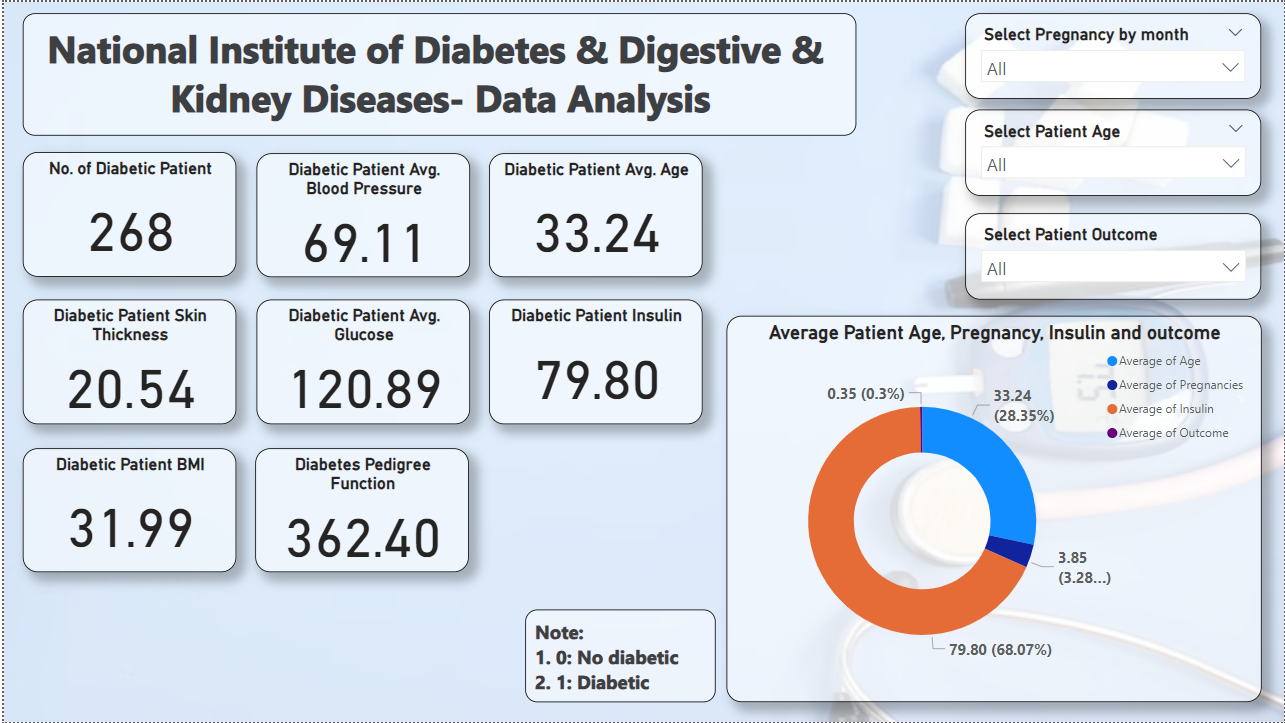

This screenshot's page, from the dashboard's own definition file:
{"tool":"powerbi","page":{"name":"Page 1","canvas":[1280,720],"ordinal":0},"visuals":[{"type":"textbox","box":[19.2,11,833.6,122],"z":0},{"type":"slicer","fields":{"Values":["diabetes (3).Pregnancies"]},"box":[961.4,11.4,295.7,85.7],"z":1000},{"type":"card","title":"No. of Diabetic Patient","fields":{"Values":["Sum(diabetes (3).Outcome)"]},"box":[19.2,149.4,213.9,124.8],"z":2000},{"type":"card","title":"Diabetic Patient Avg. Age","fields":{"Values":["Avg(diabetes (3).Age)"]},"box":[485,151.2,213.8,123.8],"z":3000},{"type":"card","title":"Diabetic Patient Avg. Blood Pressure","fields":{"Values":["Avg(diabetes (3).Blood Pressure)"]},"box":[252.5,151.2,213.8,123.8],"z":4000},{"type":"card","title":"Diabetic Patient Avg. Glucose","fields":{"Values":["Avg(diabetes (3).Glucose)"]},"box":[252.5,297.5,213.8,125],"z":5000},{"type":"card","title":"Diabetic Patient Skin Thickness","fields":{"Values":["Avg(diabetes (3).Skin Thickness)"]},"box":[18.8,297.5,213.8,125],"z":6000},{"type":"card","title":"Diabetic Patient Insulin","fields":{"Values":["Avg(diabetes (3).Insulin)"]},"box":[485,297.5,213.8,125],"z":7000},{"type":"card","title":"Diabetic Patient BMI","fields":{"Values":["Avg(diabetes (3).BMI)"]},"box":[18.8,446.2,213.8,123.8],"z":8000},{"type":"card","title":"Diabetes Pedigree Function","fields":{"Values":["Sum(diabetes (3).Diabetes Pedigree Function)"]},"box":[251.2,446.2,213.8,123.8],"z":9000},{"type":"donutChart","title":"Average Patient Age, Pregnancy, Insulin and outcome ","fields":{"Y":["Avg(diabetes (3).Age)","Avg(diabetes (3).Pregnancies)","Avg(diabetes (3).Insulin)","Avg(diabetes (3).Outcome)"]},"box":[722.5,313.8,535,386.2],"z":10000},{"type":"slicer","fields":{"Values":["diabetes (3).Age"]},"box":[961.2,107.5,296.2,86.2],"z":11000},{"type":"textbox","box":[521.2,607.5,190,92.5],"z":12000},{"type":"slicer","fields":{"Values":["diabetes (3).Outcome"]},"box":[961.2,211.2,296.2,86.2],"z":13000}]}

Visuals, with their boxes in screenshot pixels (x1, y1, x2, y2), scaled from the page's 1280x720 canvas onto the 1285x723 screenshot:
textbox: BBox(19, 11, 856, 134)
slicer - diabetes (3).Pregnancies: BBox(965, 11, 1262, 98)
"No. of Diabetic Patient" card: BBox(19, 150, 234, 275)
"Diabetic Patient Avg. Age" card: BBox(487, 152, 702, 276)
"Diabetic Patient Avg. Blood Pressure" card: BBox(253, 152, 468, 276)
"Diabetic Patient Avg. Glucose" card: BBox(253, 299, 468, 424)
"Diabetic Patient Skin Thickness" card: BBox(19, 299, 234, 424)
"Diabetic Patient Insulin" card: BBox(487, 299, 702, 424)
"Diabetic Patient BMI" card: BBox(19, 448, 234, 572)
"Diabetes Pedigree Function" card: BBox(252, 448, 467, 572)
"Average Patient Age, Pregnancy, Insulin and outcome " donutChart: BBox(725, 315, 1262, 703)
slicer - diabetes (3).Age: BBox(965, 108, 1262, 195)
textbox: BBox(523, 610, 714, 703)
slicer - diabetes (3).Outcome: BBox(965, 212, 1262, 299)
